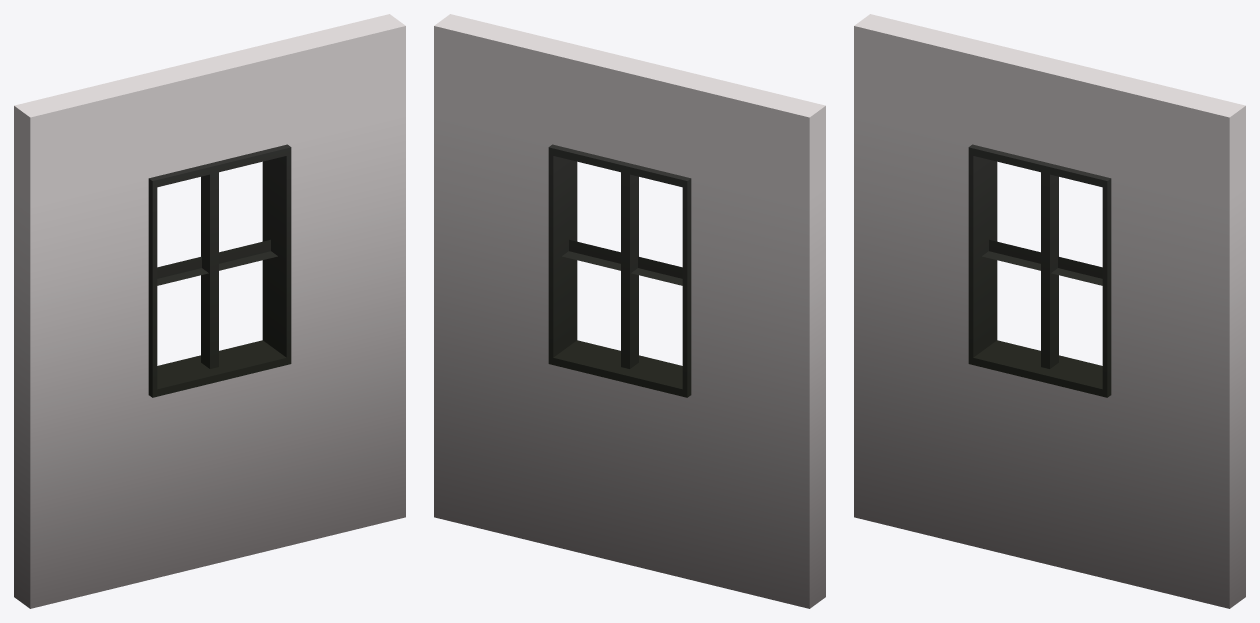
The model's file is WallWindow.gltf.
3 renders of one model, left to right at view 1: azimuth 30°, elevation 25°; view 2: azimuth 150°, elevation 25°; view 3: azimuth 330°, elevation 25°, orthographic.
Visible parts, largest first — view 1: WallWindow; view 2: WallWindow; view 3: WallWindow.
Boxes of the visible parts, box(x1,y1,x2,y2) form: WallWindow: box(14, 14, 405, 608); WallWindow: box(434, 14, 825, 608); WallWindow: box(854, 14, 1245, 608).
Bounding box in the file's own units: 2 × 2.5 × 0.2211.
1 material, 1 textured.
